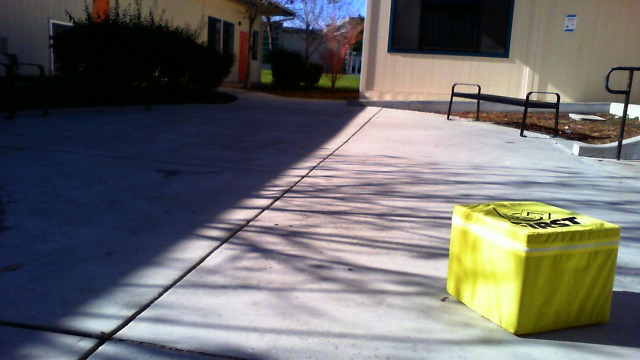cube: (442, 201, 626, 335)
